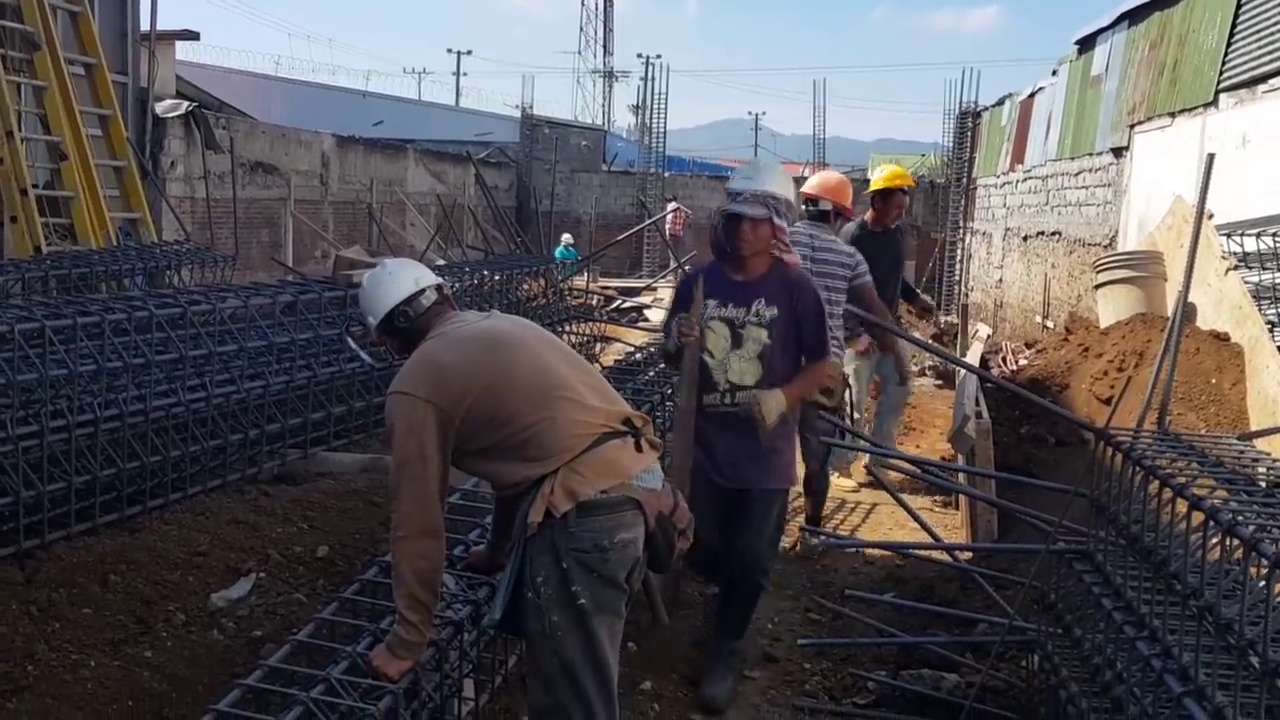helmet: (358, 259, 447, 352), (718, 149, 794, 225), (795, 165, 856, 213), (863, 160, 921, 194), (560, 233, 575, 245)
helmet-off: (662, 192, 677, 207)
helmet-on: (354, 255, 468, 364), (718, 154, 795, 285), (861, 160, 920, 234), (795, 168, 859, 236), (560, 232, 576, 250)
person: (344, 254, 667, 719), (661, 146, 824, 676), (839, 156, 925, 493), (793, 169, 867, 496), (661, 192, 694, 282), (553, 232, 581, 277)
